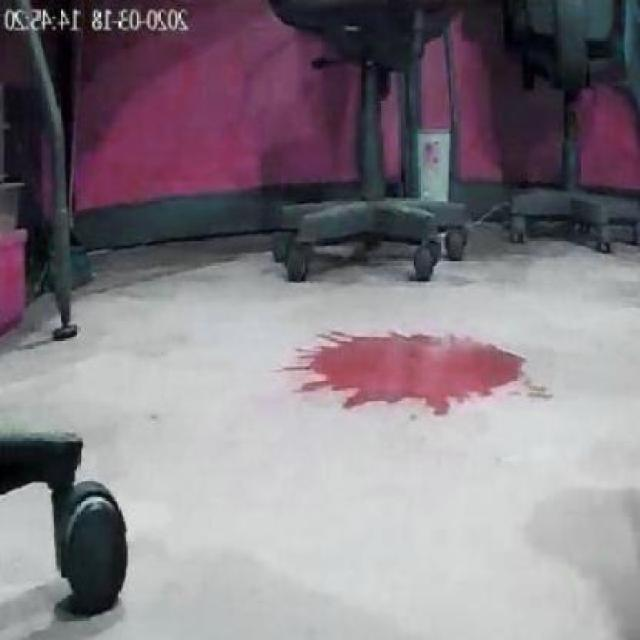spillage: (297, 334, 527, 417)
